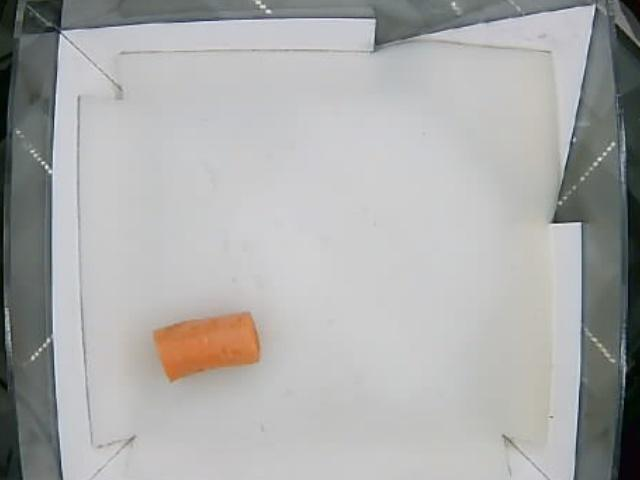Carrot: (148, 310, 260, 384)
